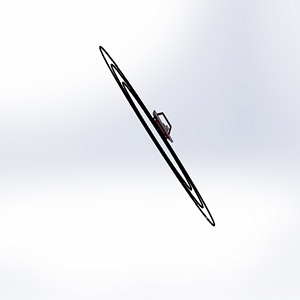circle: (80, 36, 227, 234)
submarine: (141, 101, 179, 148)
